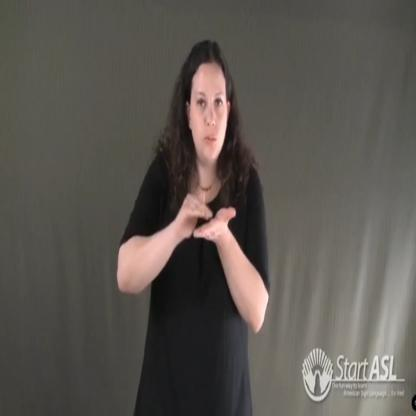ExcuseMe: (171, 169, 242, 255)
